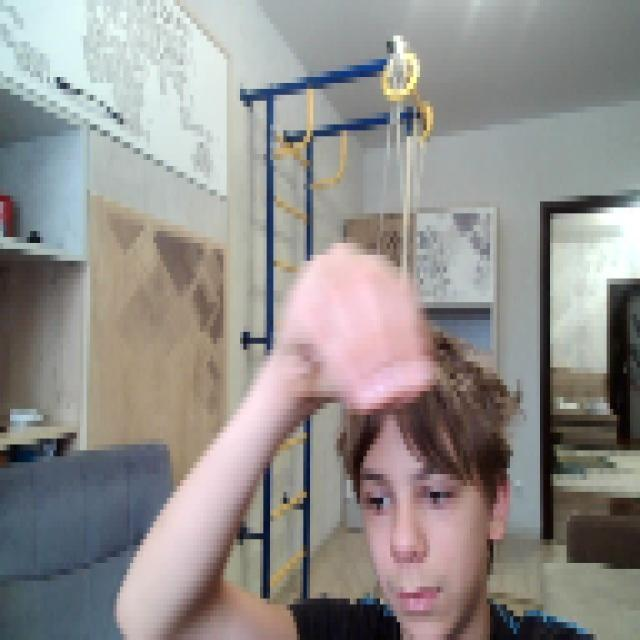left_click: (273, 231, 437, 415)
